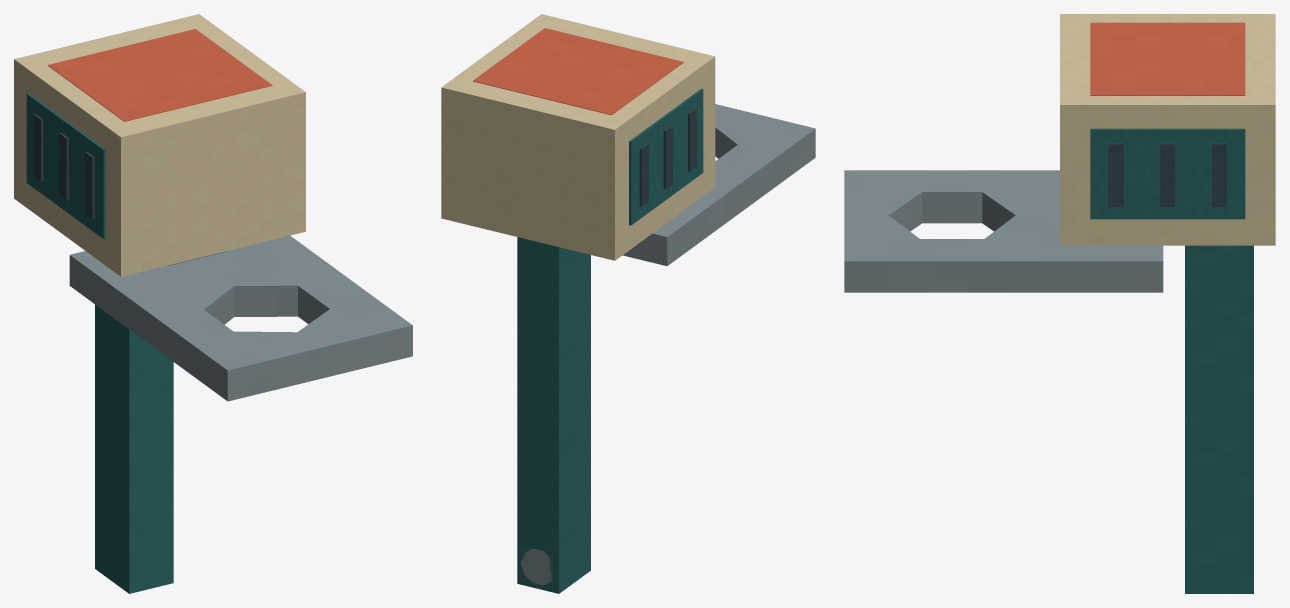
File: engine-lod-2.glb
3 renders of one model, left to right at view 1: azimuth 30°, elevation 25°; view 2: azimuth 150°, elevation 25°; view 3: azimuth 270°, elevation 25°, orthographic. The views are drawn at different scales.
Visible parts, largest first — view 1: engine_lod_2; view 2: engine_lod_2; view 3: engine_lod_2.
Part boxes in pixels (x1,y1,x2,y2): engine_lod_2: [14, 14, 412, 593]; engine_lod_2: [441, 14, 815, 593]; engine_lod_2: [844, 14, 1275, 593].
Bounding box in the file's own units: 1.05 × 2.68 × 2.
1 material, 1 textured.
